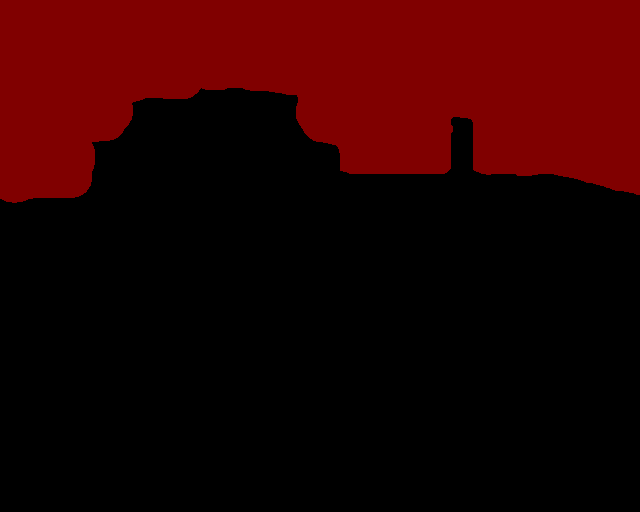Sky: (1, 1, 639, 203)
